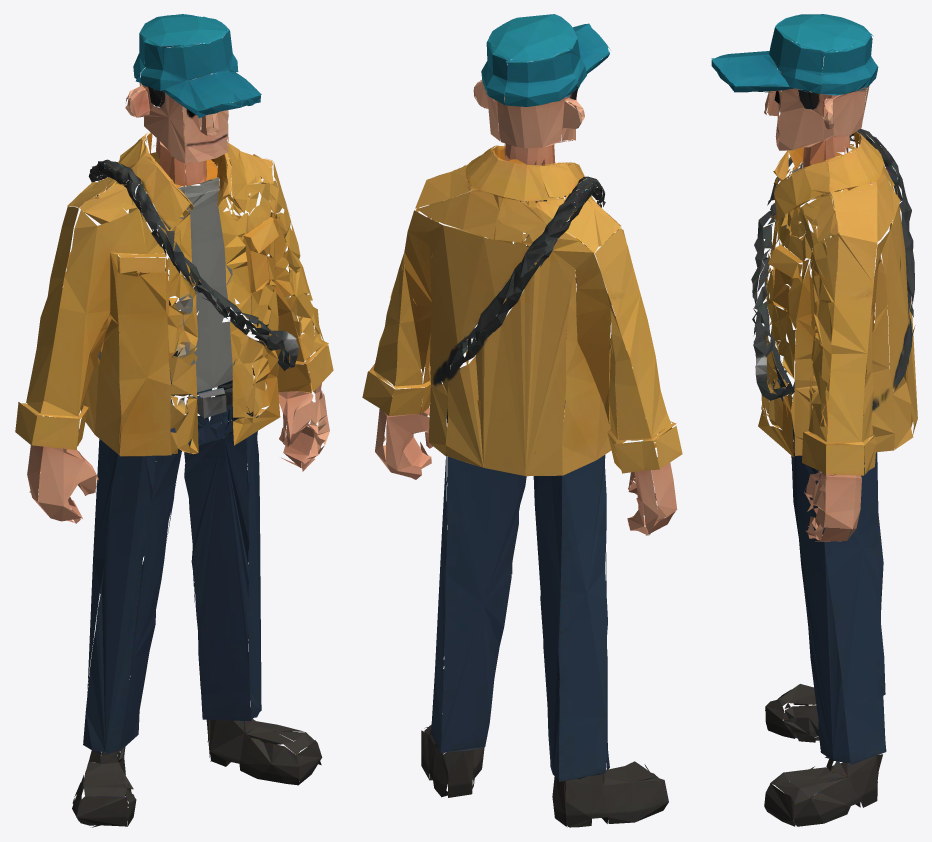
Rendered from habitant.glb.
3 views of the same model, side by side, from view 1: azimuth 30°, elevation 25°; view 2: azimuth 150°, elevation 25°; view 3: azimuth 270°, elevation 25° (orthographic). The views are drawn at different scales.
Visible parts, largest first — view 1: world; view 2: world; view 3: world.
Boxes of the visible parts, x1,y1,x2,y2 form: world: [15, 14, 333, 827]; world: [362, 14, 682, 827]; world: [711, 14, 917, 826].
Size of the model in its own units: 0.4159 by 1.01 by 0.251.
1 material, 1 textured.
